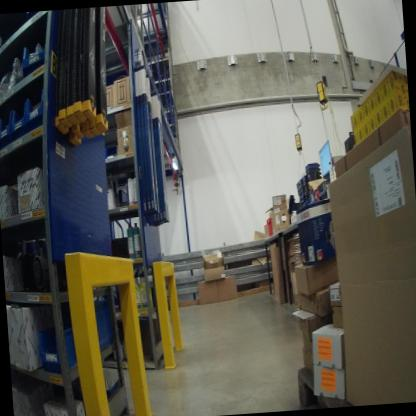pallet: (293, 359, 366, 408)
